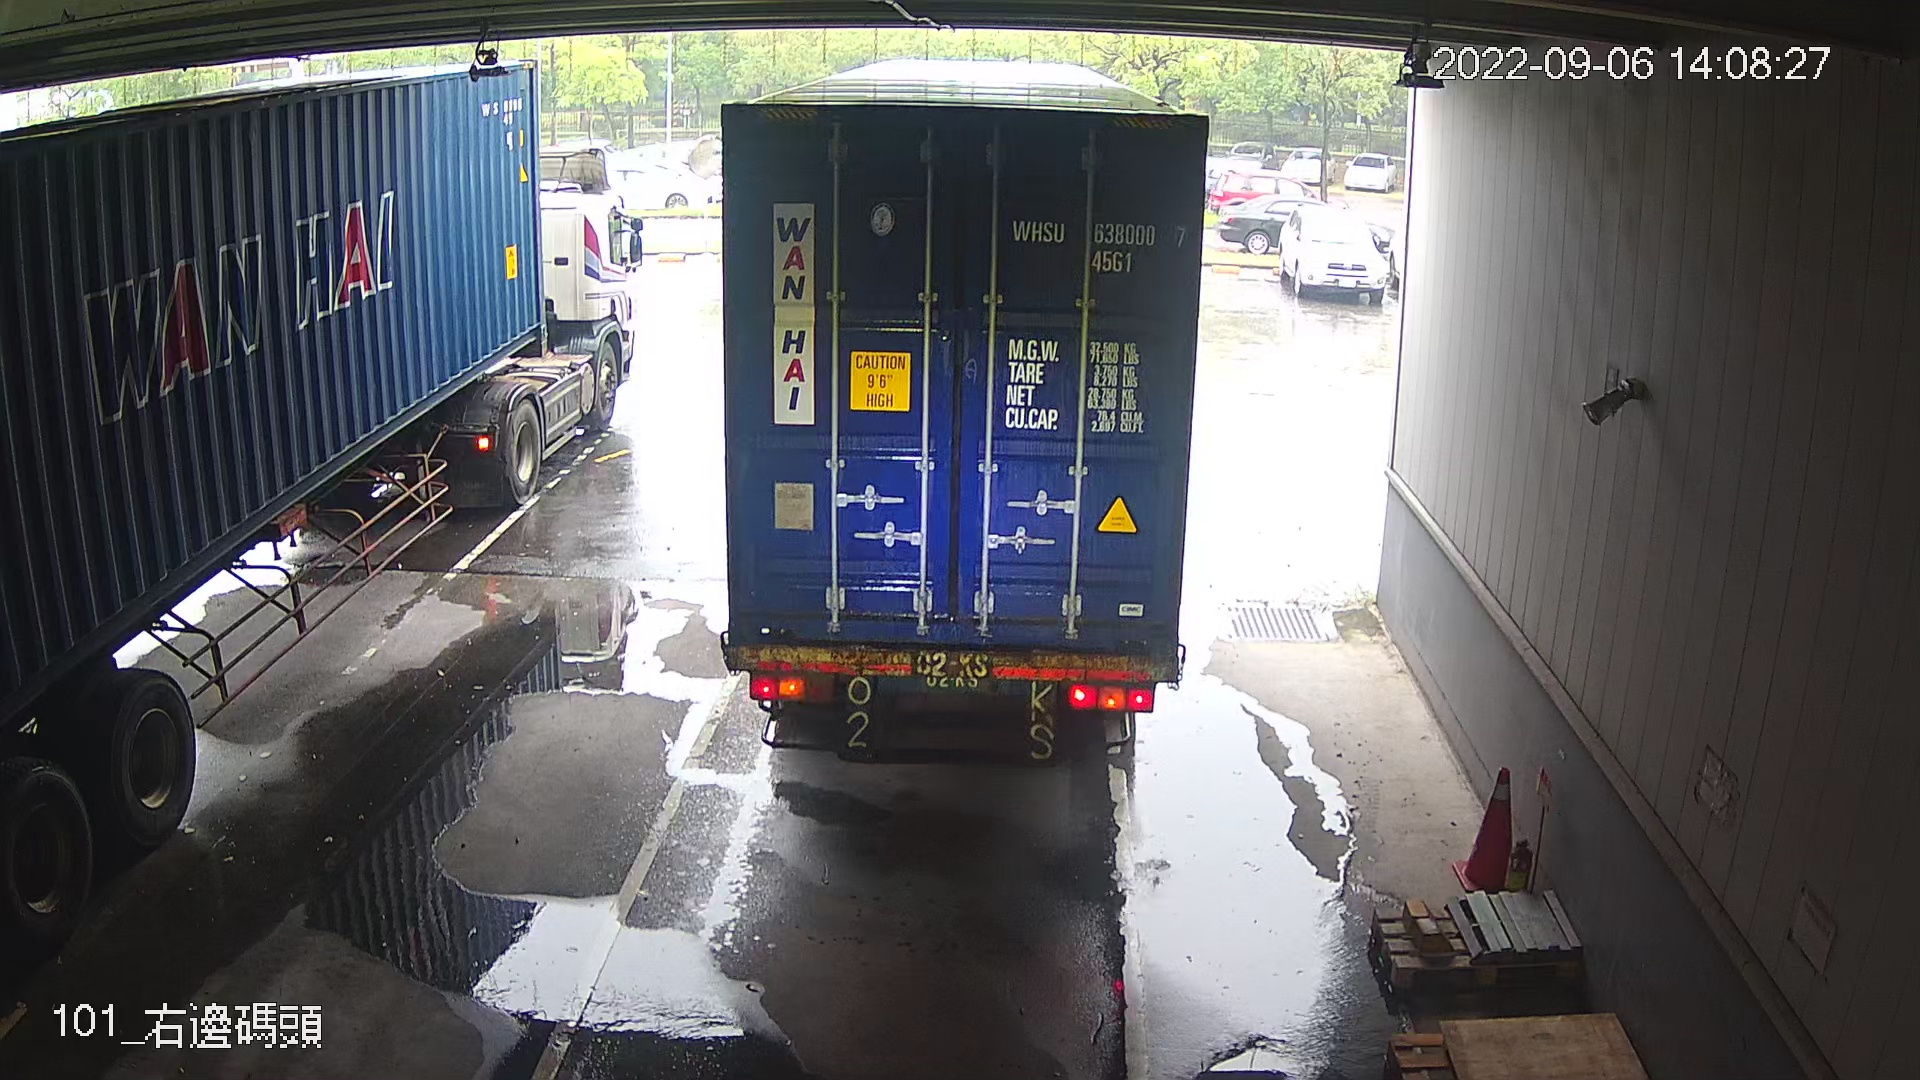container: (1004, 211, 1193, 284)
